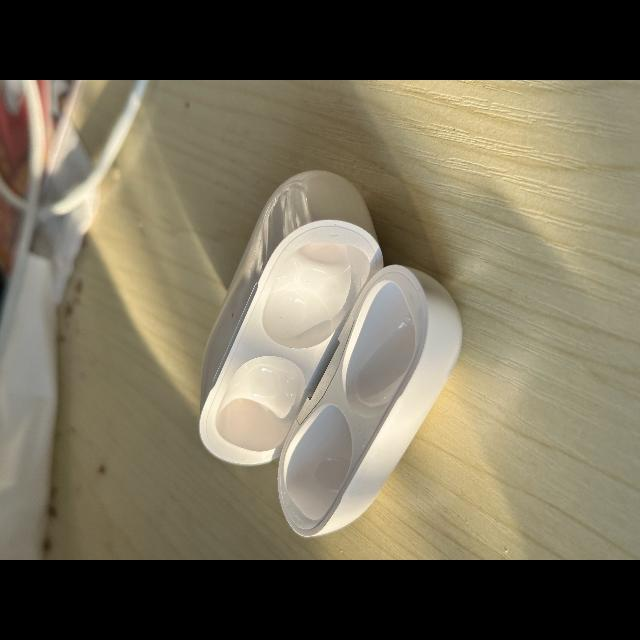AirPods Pro: (199, 170, 462, 537)
